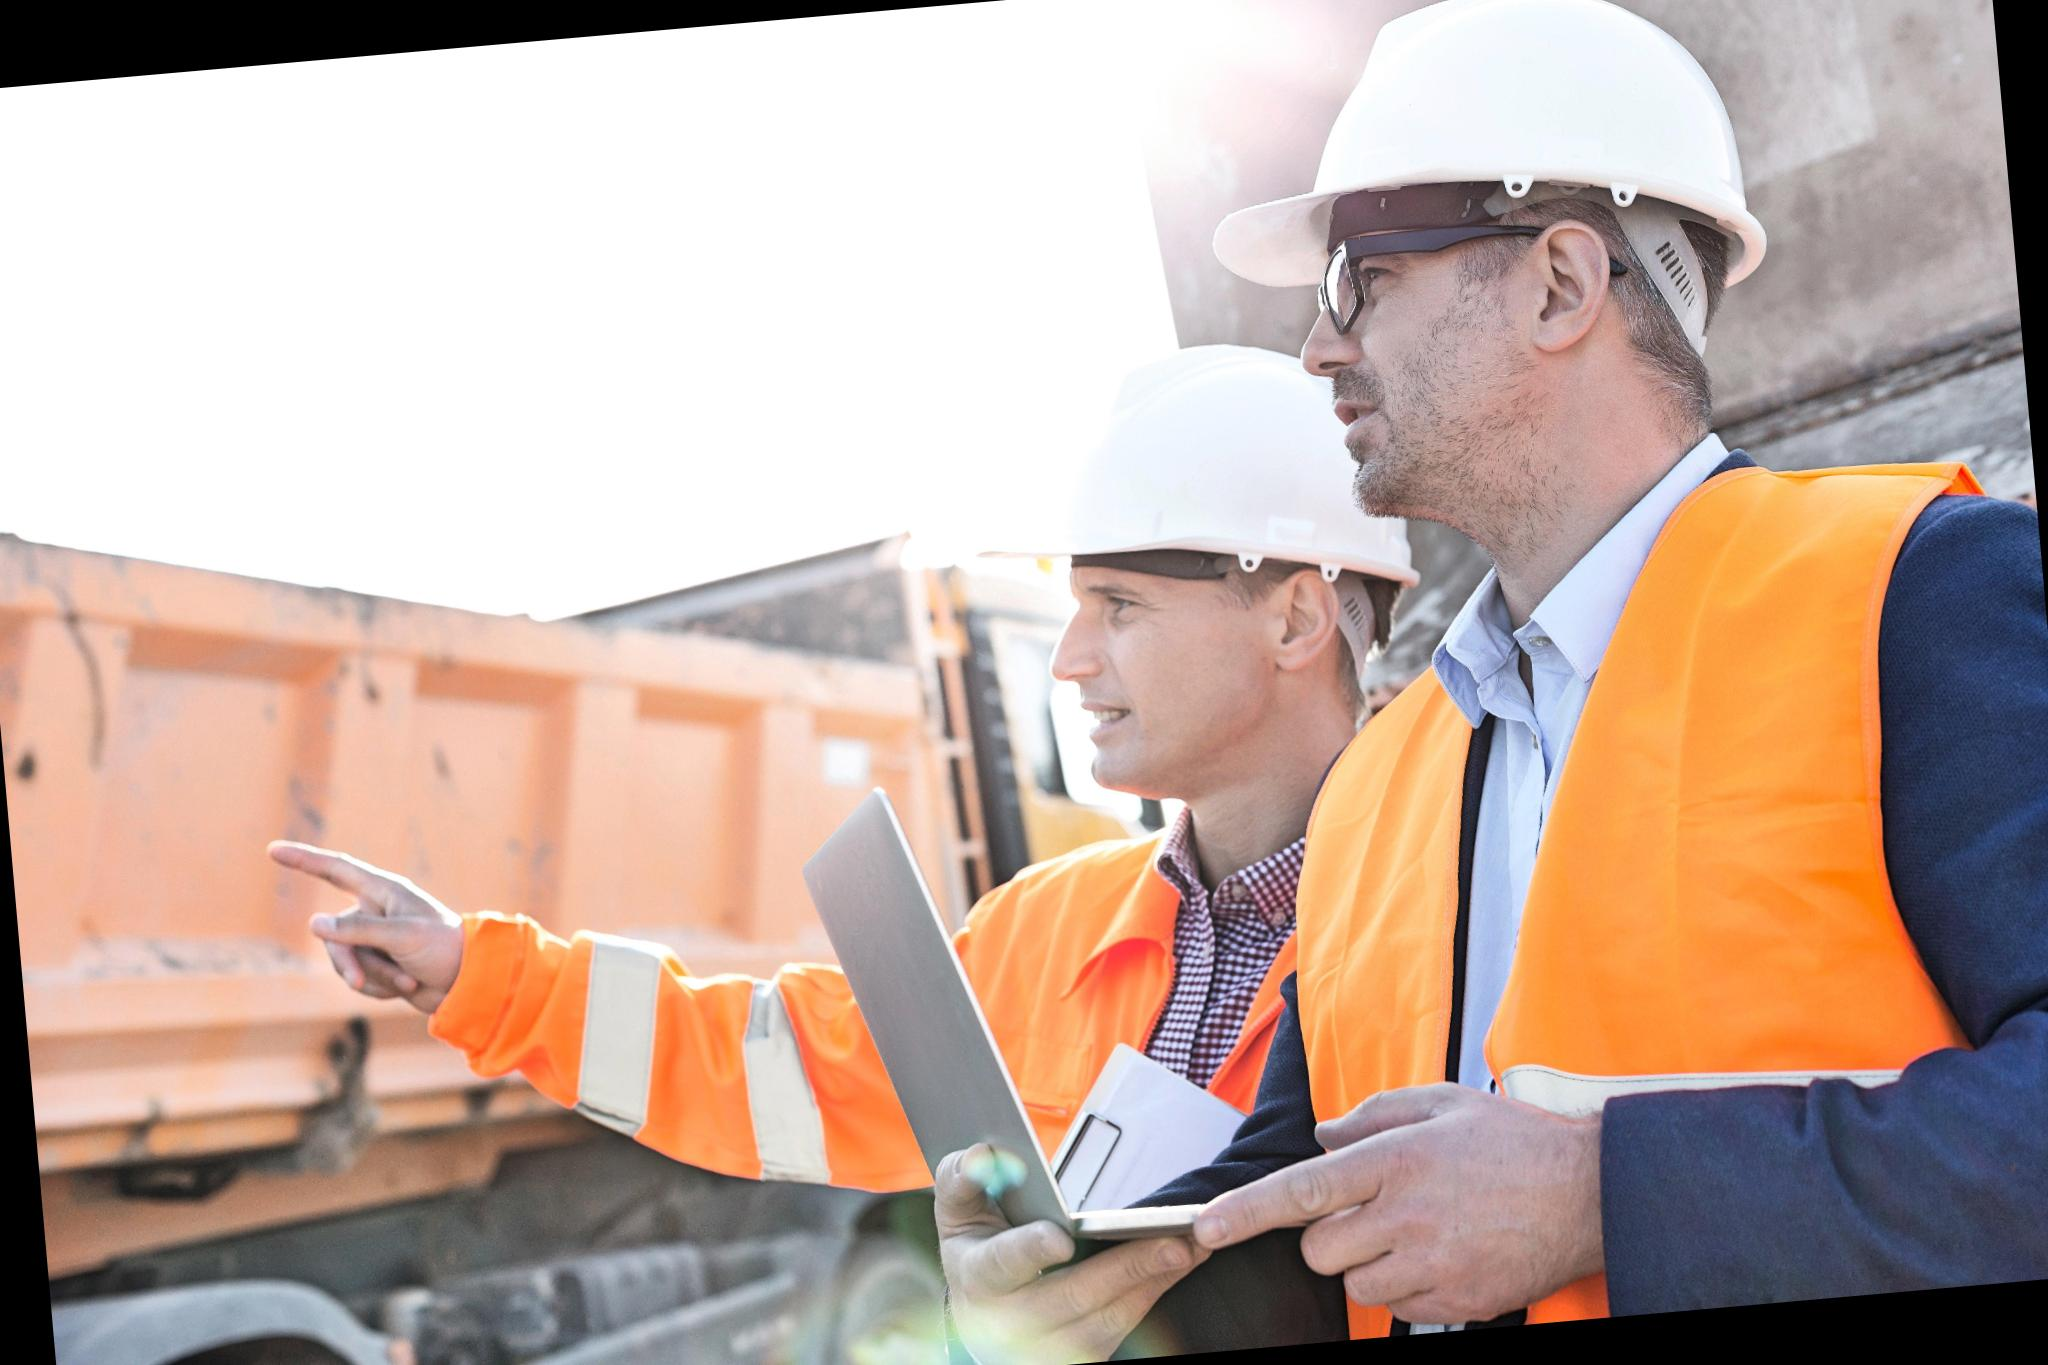Vest: (1288, 439, 2048, 1251)
